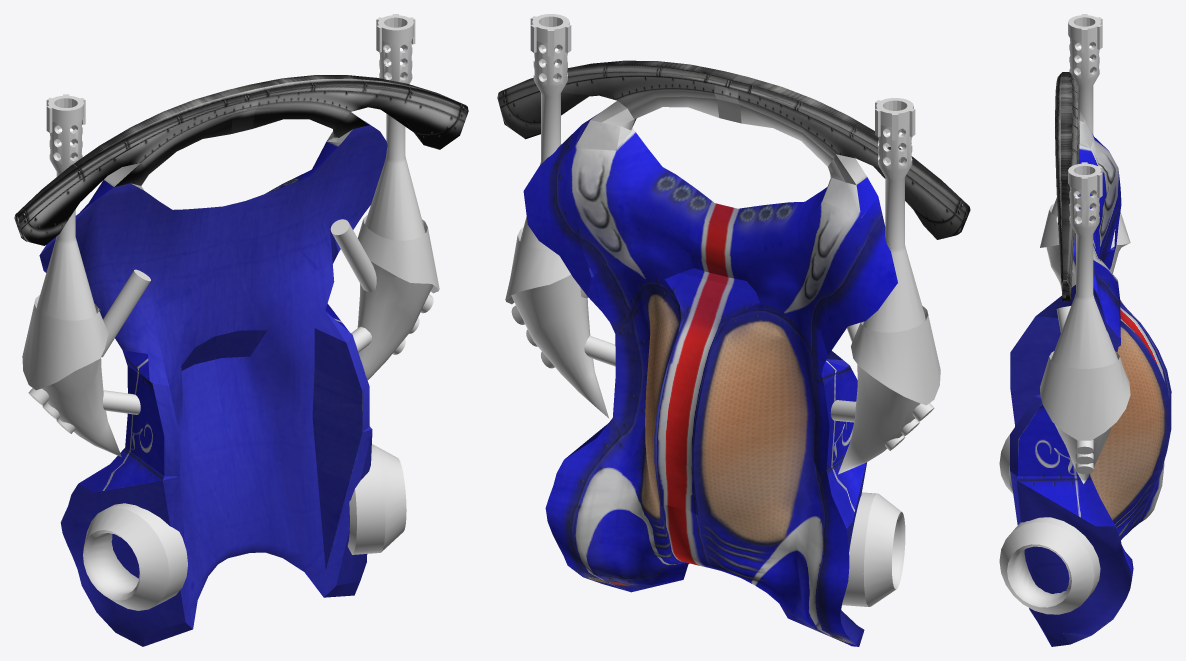
Rendered from Karetka.FBX.
3 renders of one model, left to right at view 1: azimuth 30°, elevation 25°; view 2: azimuth 150°, elevation 25°; view 3: azimuth 270°, elevation 25°, orthographic. The views are drawn at different scales.
Visible parts, largest first — view 1: Capsule001, bamper, Gun002, Gun, ChamferCyl007, ChamferCyl004, Cylinder004, Cylinder010, Cylinder007; view 2: Capsule001, bamper, Gun002, Gun, ChamferCyl007, Cylinder005; view 3: Capsule001, Gun, ChamferCyl004, Gun002, bamper, ChamferCyl007, Cylinder003.
Part boxes in pixels (x1,y1,x2,y2): Capsule001: (39, 120, 387, 646); bamper: (14, 75, 468, 245); Gun002: (22, 94, 121, 457); Gun: (357, 14, 439, 379); ChamferCyl007: (83, 503, 187, 610); ChamferCyl004: (347, 444, 406, 554); Cylinder004: (330, 219, 376, 291); Cylinder010: (101, 269, 150, 357); Cylinder007: (102, 390, 140, 414); Capsule001: (523, 113, 897, 646); bamper: (497, 60, 970, 239); Gun002: (838, 98, 940, 474); Gun: (505, 14, 608, 418); ChamferCyl007: (842, 492, 905, 606); Cylinder005: (584, 336, 615, 366); Capsule001: (1010, 118, 1171, 646); Gun: (1040, 162, 1130, 483); ChamferCyl004: (999, 517, 1100, 614); Gun002: (1040, 14, 1130, 288); bamper: (1055, 72, 1083, 301); ChamferCyl007: (999, 432, 1013, 493); Cylinder003: (1075, 439, 1093, 454).
Bounding box in the file's own units: 104 × 120 × 37.18.
